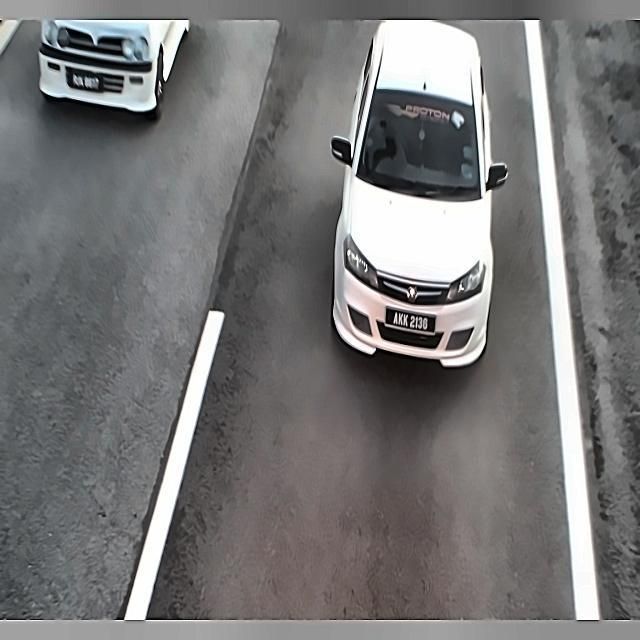car: (383, 305, 437, 344), (64, 71, 106, 98)
